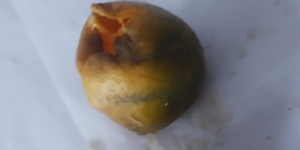BAD: (76, 2, 207, 139)
